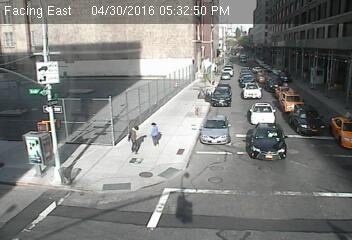neg: (76, 88, 98, 117), (185, 56, 198, 73), (59, 70, 72, 87), (200, 57, 212, 74)
pos: (122, 122, 141, 149), (142, 119, 161, 144)
